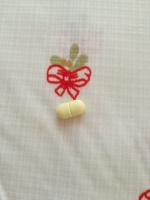Aferin: (54, 99, 87, 120)
